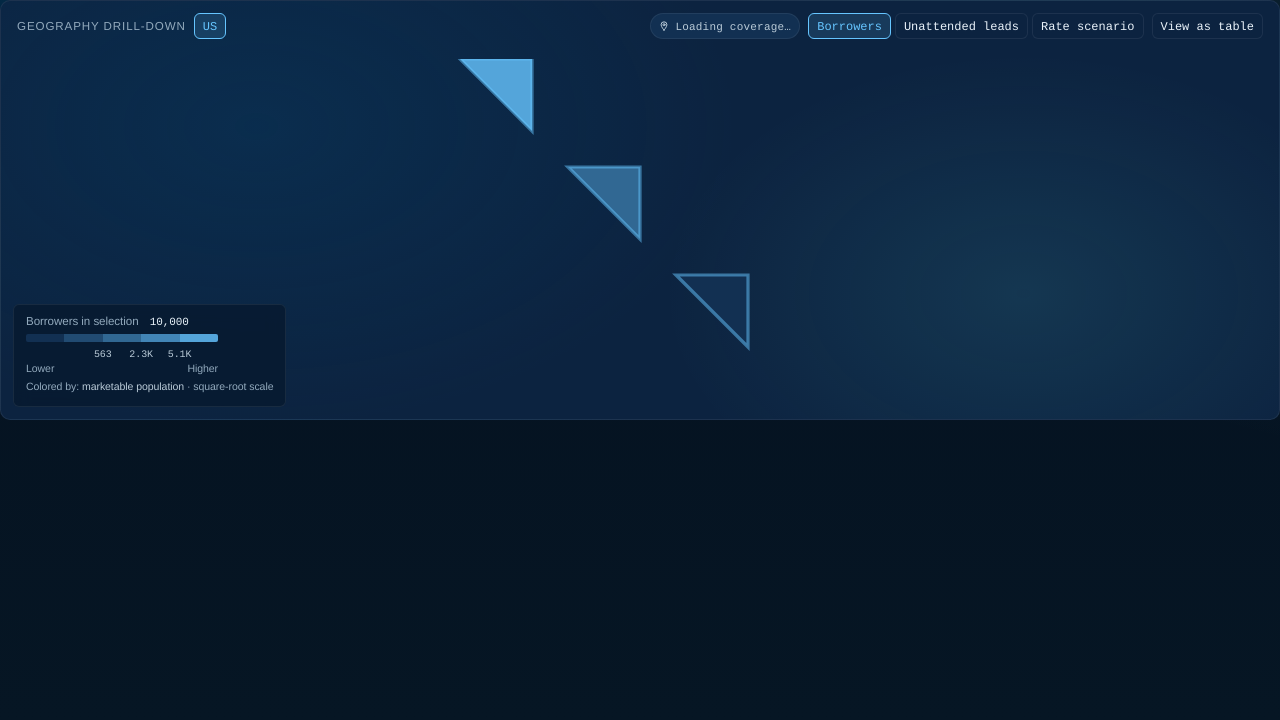
Test: USChoroplethMap rate scenario › a control chunk that fails to load keeps the borrower fill and says so, with no number
The image size is (1280, 720).
Click the button "Rate scenario" at coordinates (1088, 26), box [1032,13,1144,39]
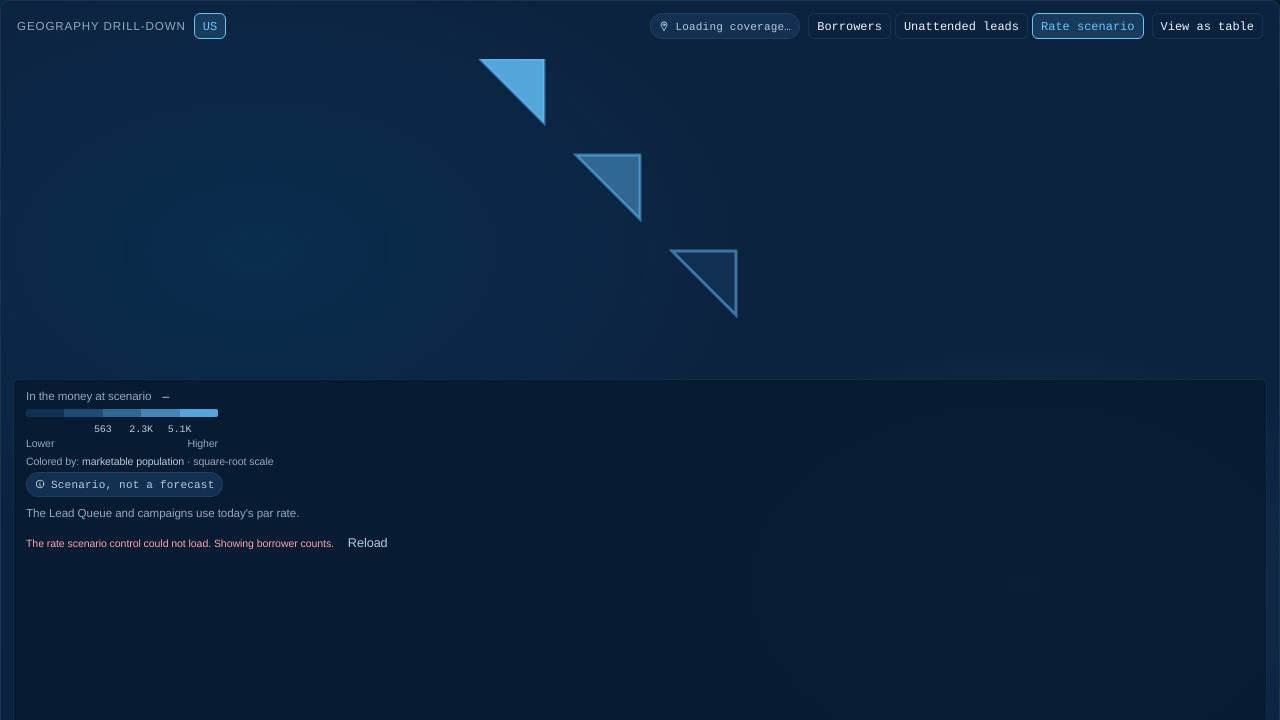
expect the element with class "map-legend__caption" shows "marketable population": met, box [82,454,184,468]
expect the text with class "map-legend__value" reads "—": met, box [162,389,169,403]
